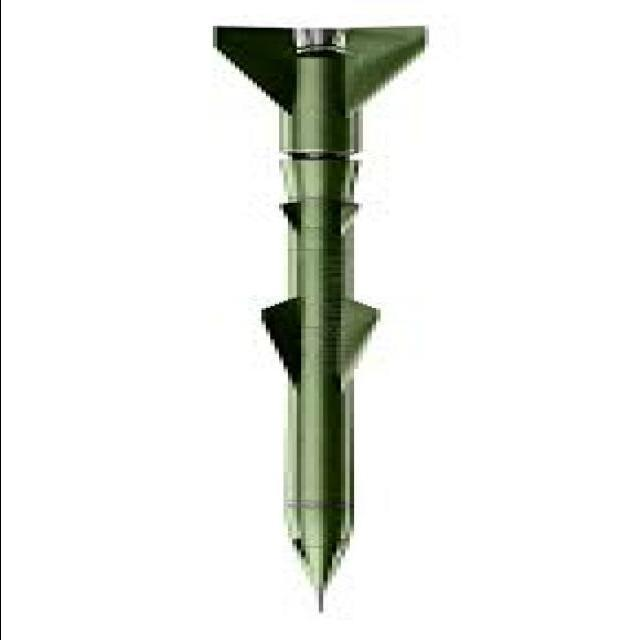Missile: (206, 17, 426, 628)
